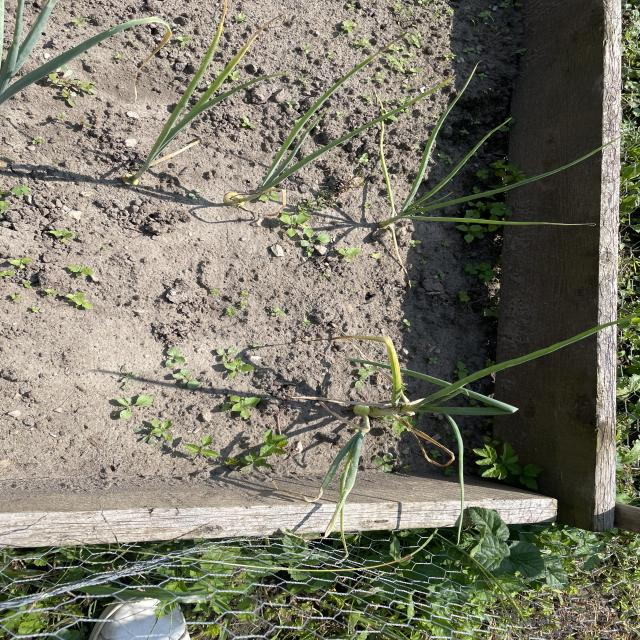Onion: (226, 76, 397, 206), (365, 120, 539, 240), (128, 34, 257, 185), (340, 373, 478, 489)
weed: (462, 143, 522, 256), (470, 432, 558, 498), (36, 64, 102, 104), (235, 431, 290, 472), (159, 345, 203, 395), (214, 388, 274, 420), (107, 392, 158, 420), (0, 176, 35, 215), (221, 391, 265, 422), (136, 417, 174, 448), (187, 432, 224, 463), (318, 245, 371, 265), (290, 230, 335, 251), (61, 293, 103, 315), (36, 224, 76, 247), (274, 214, 306, 238)
